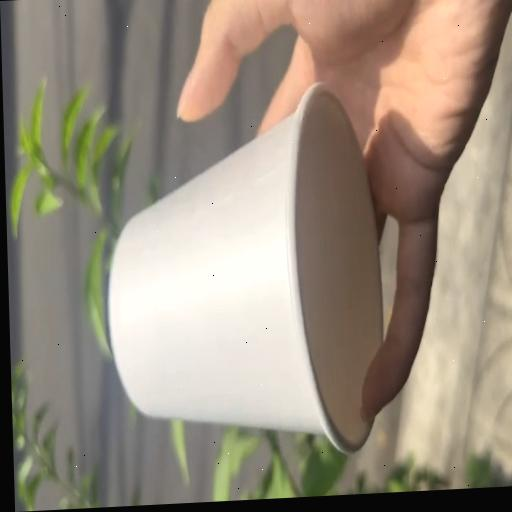Ly_giay: (108, 83, 382, 451)
